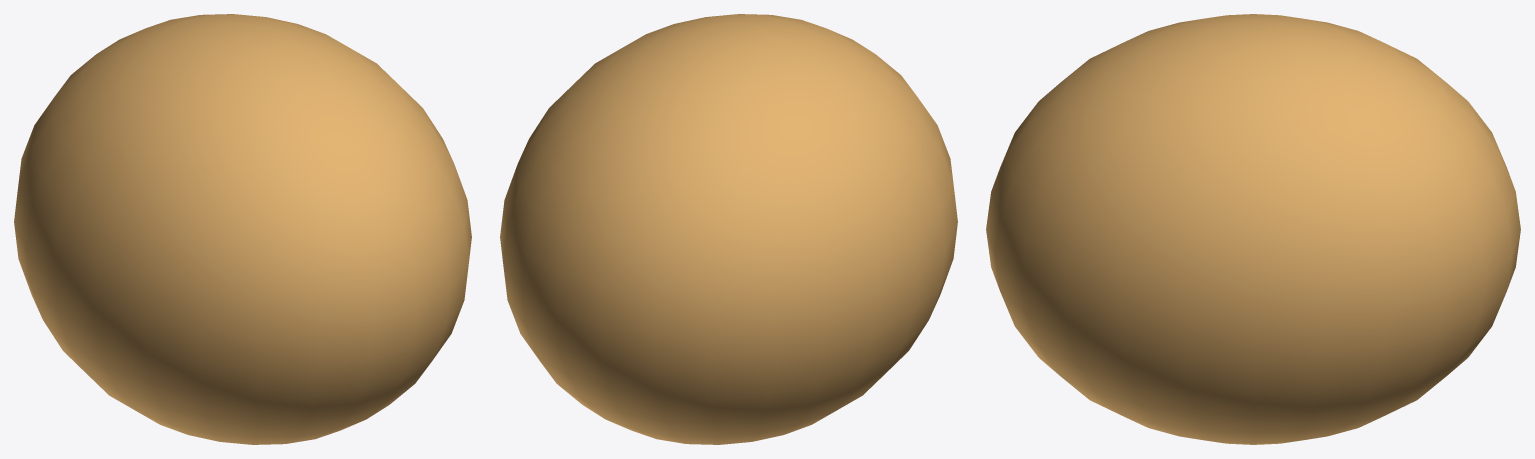
The model's file is nose_round.glb.
3 renders of one model, left to right at view 1: azimuth 30°, elevation 25°; view 2: azimuth 150°, elevation 25°; view 3: azimuth 270°, elevation 25°, orthographic. The views are drawn at different scales.
Visible parts, largest first — view 1: NoseRound.001; view 2: NoseRound.001; view 3: NoseRound.001.
Boxes of the visible parts, x1,y1,x2,y2 form: NoseRound.001: (14,14,471,444); NoseRound.001: (500,14,957,444); NoseRound.001: (986,14,1520,444).
Bounding box in the file's own units: 0.042 × 0.04 × 0.05.
